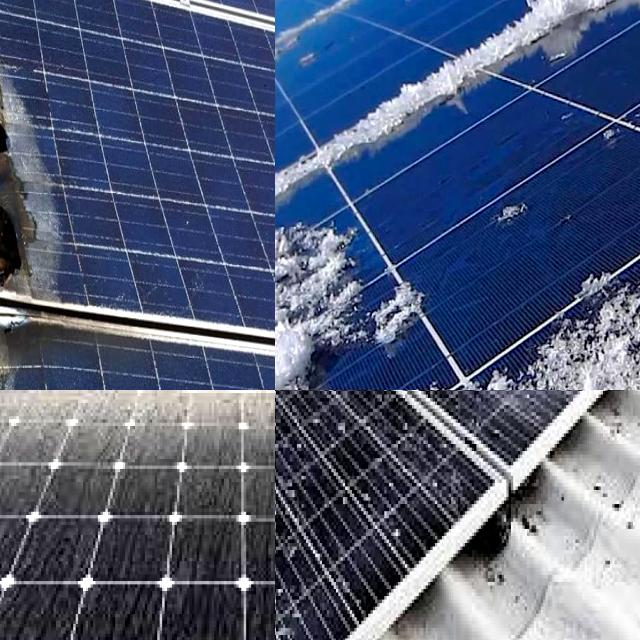dust: (275, 419, 364, 616), (96, 517, 221, 640), (275, 441, 335, 640), (90, 447, 251, 511), (0, 513, 69, 640), (390, 390, 493, 452), (377, 424, 432, 540), (77, 390, 259, 424), (521, 390, 598, 458), (18, 390, 89, 456), (116, 390, 188, 449), (275, 390, 323, 461), (246, 523, 275, 640), (568, 390, 640, 428), (0, 393, 66, 430), (275, 390, 305, 444), (322, 390, 359, 433), (476, 390, 543, 413), (0, 390, 35, 431), (298, 390, 333, 417)
panel: (393, 295, 596, 390), (301, 66, 470, 153), (275, 194, 342, 390), (479, 0, 634, 81), (275, 164, 334, 220)
shadow: (0, 0, 94, 304)
